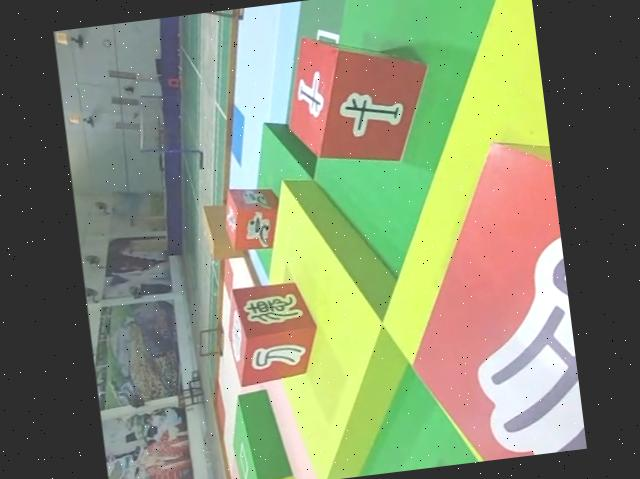R1: (219, 182, 284, 254)
R2 Fake: (385, 135, 587, 469), (221, 277, 321, 384)
R2 Real: (277, 19, 442, 172)
